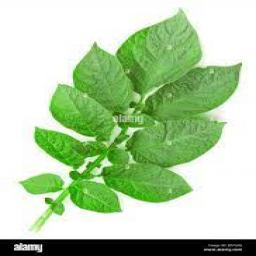Leaf: (116, 7, 203, 92), (144, 59, 240, 123), (72, 41, 134, 120), (129, 118, 226, 168), (48, 82, 116, 140), (102, 163, 193, 203), (35, 127, 87, 167), (69, 181, 122, 213), (17, 173, 64, 194)
